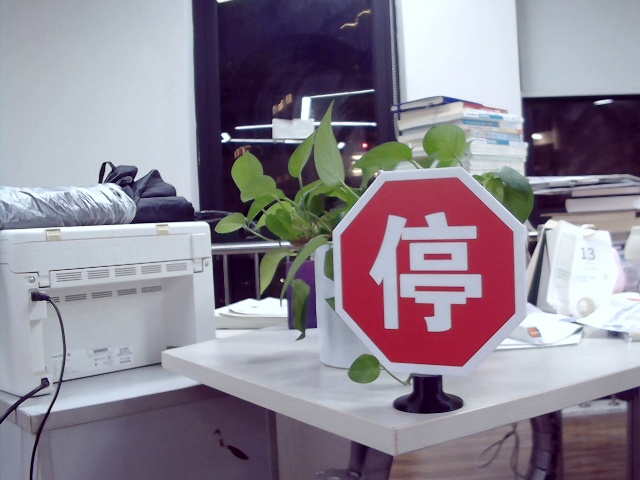stop: (370, 212, 489, 334)
